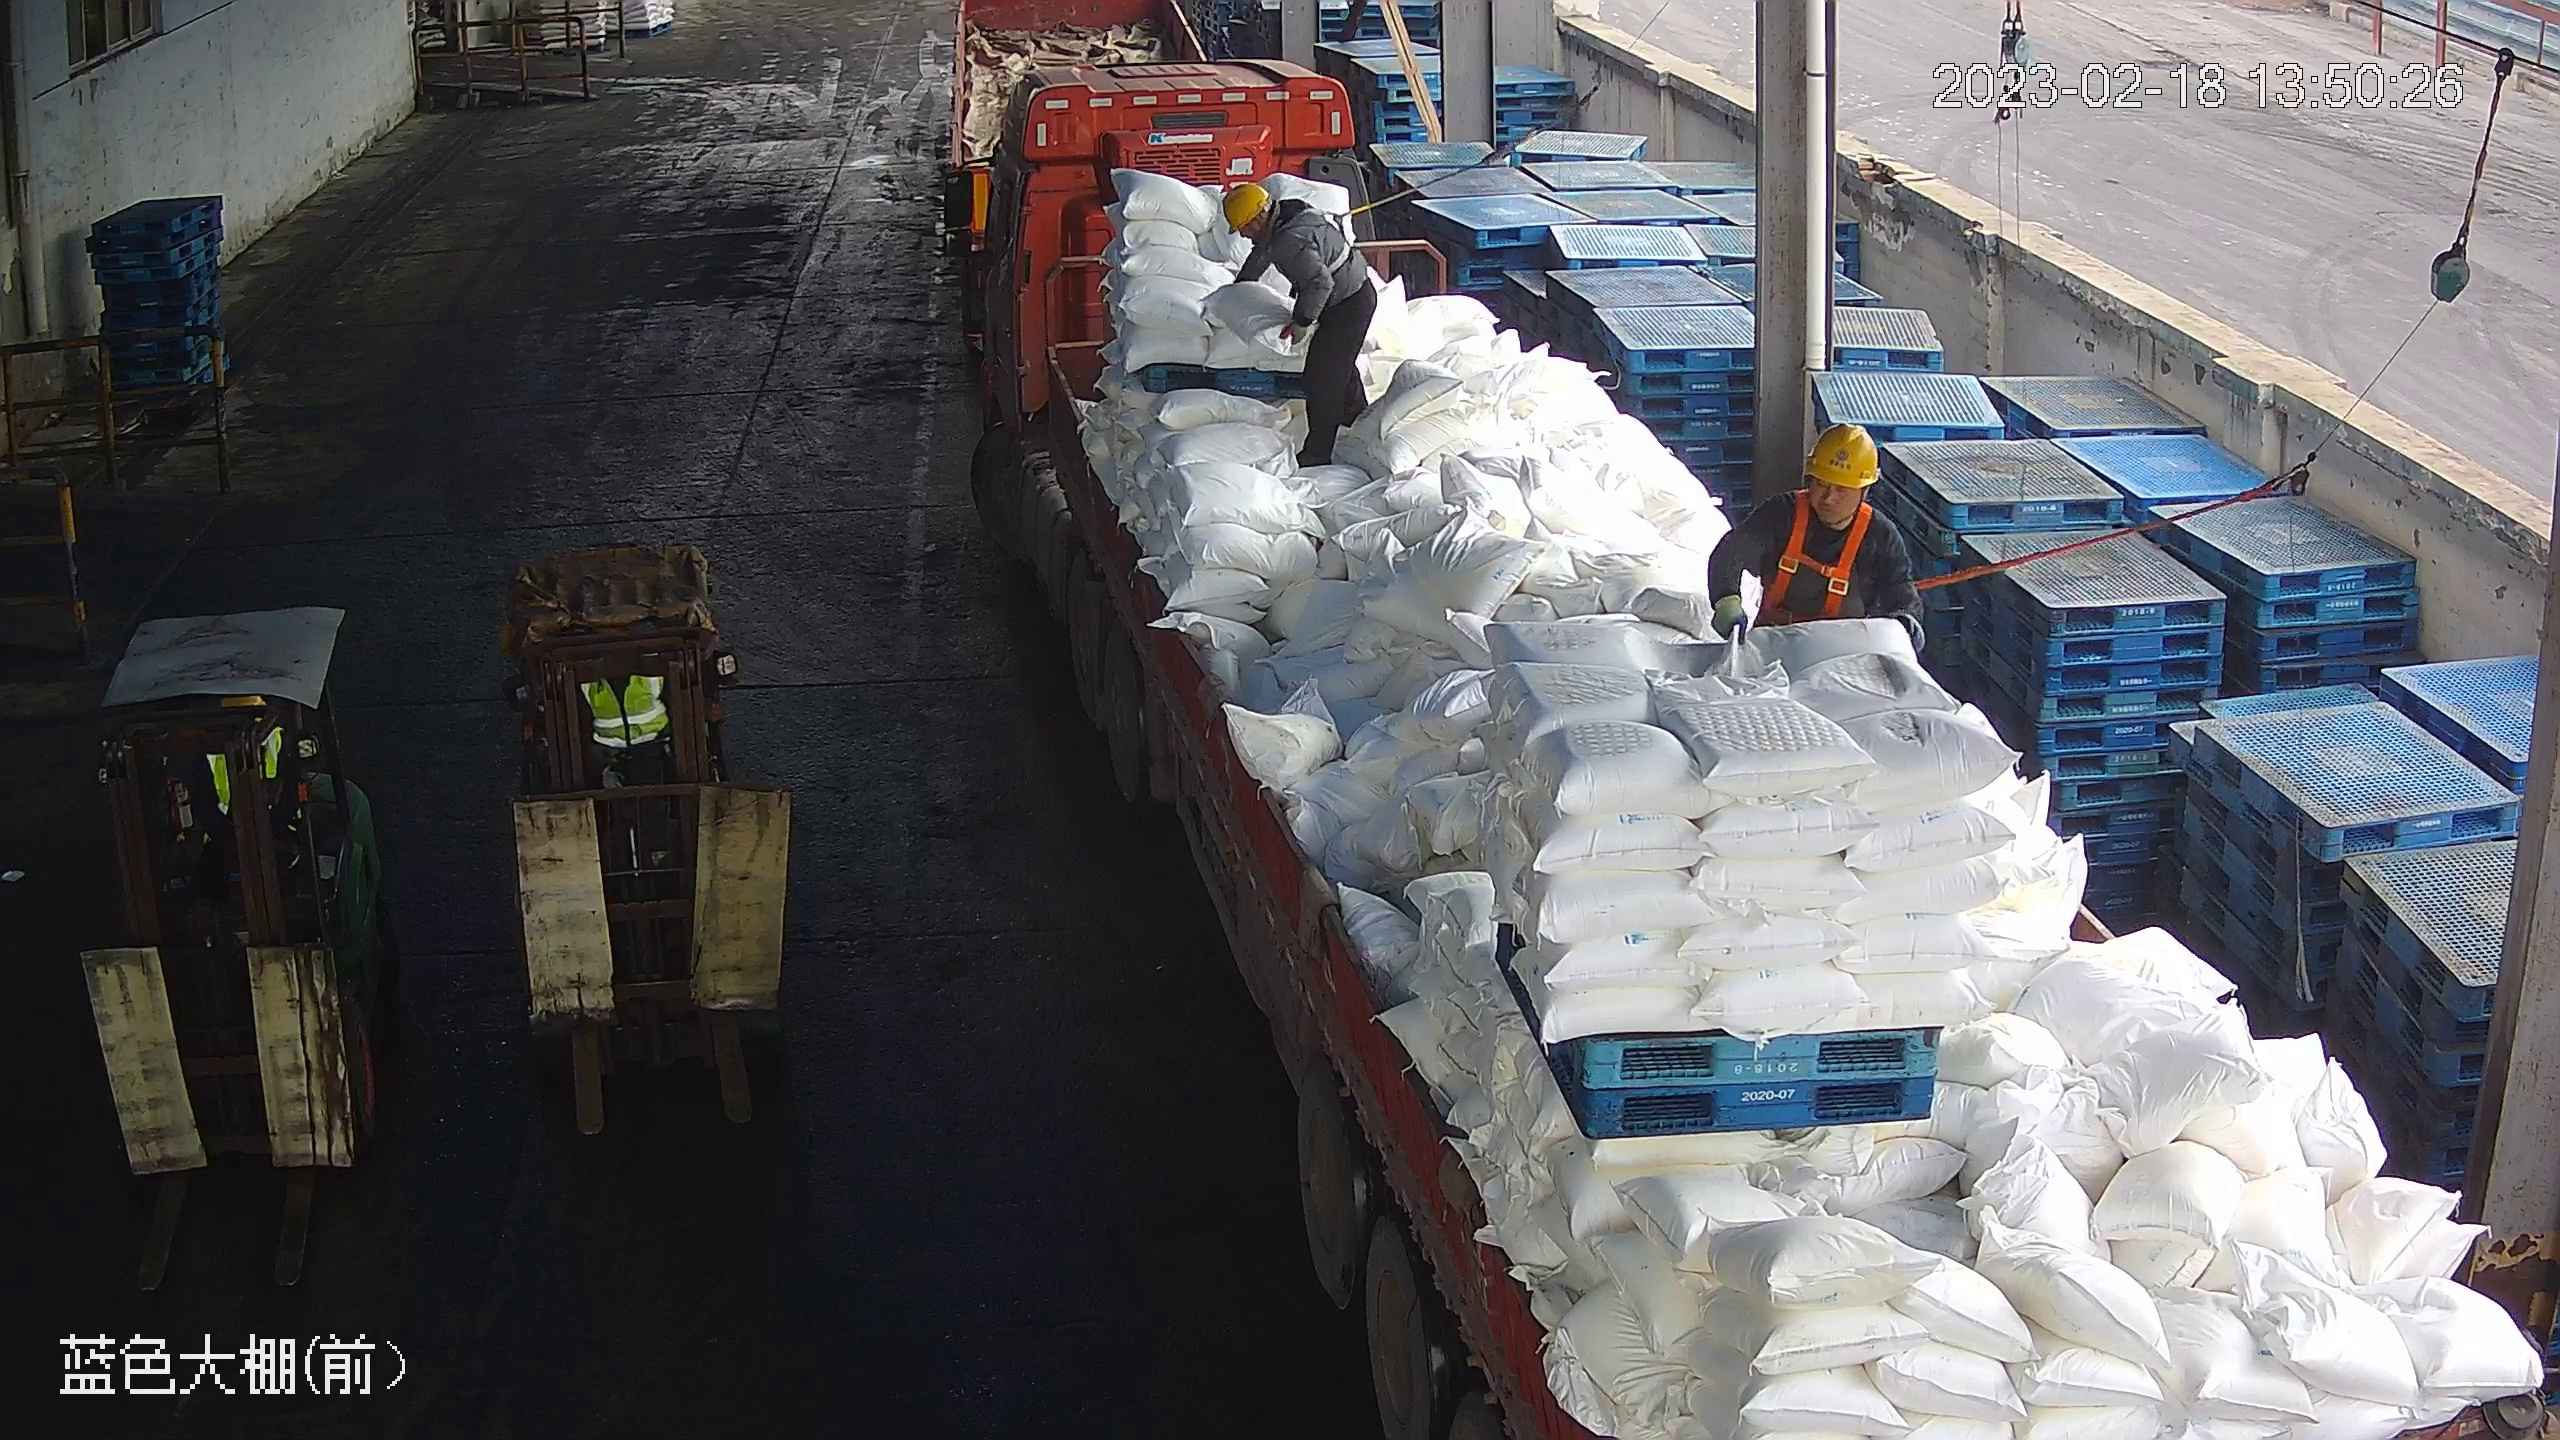belt: (1741, 418, 1916, 571), (1762, 491, 1944, 620), (1268, 194, 1356, 275)
head: (1740, 418, 1912, 565), (1223, 178, 1337, 263), (1796, 418, 1883, 491)
helmet: (1800, 418, 1882, 491), (1222, 177, 1269, 233)
people: (1218, 177, 1385, 467)
truck: (973, 55, 2555, 1440)
